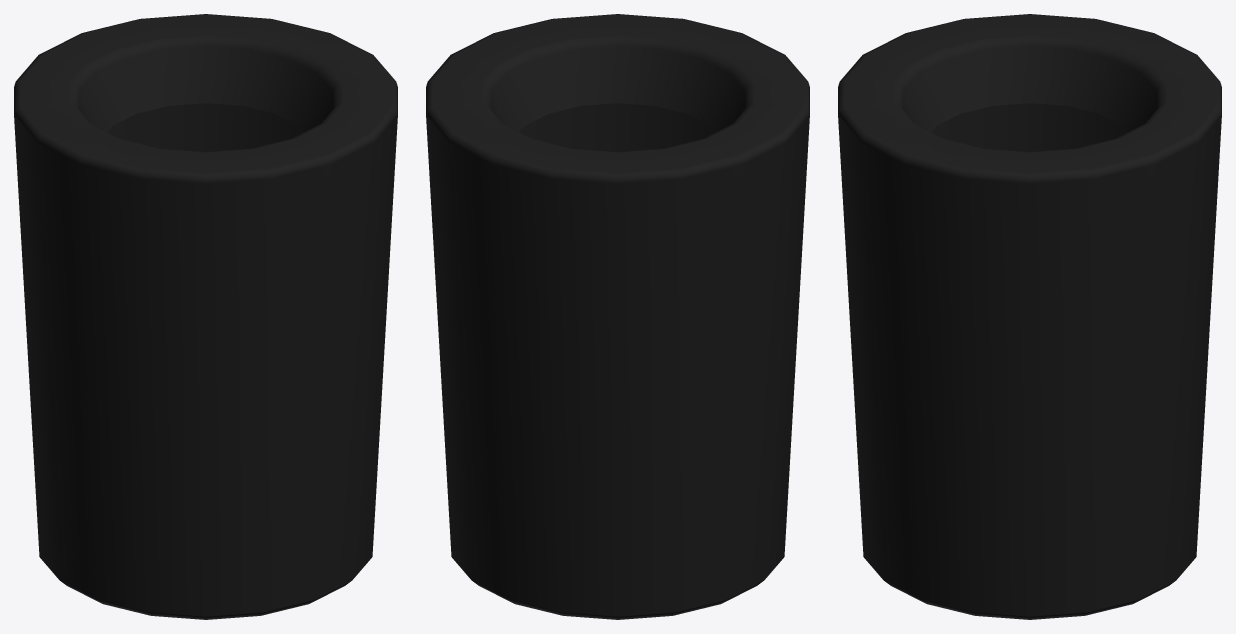
The model's file is Trash.FBX.
3 renders of one model, left to right at view 1: azimuth 30°, elevation 25°; view 2: azimuth 150°, elevation 25°; view 3: azimuth 270°, elevation 25°, orthographic.
Visible parts, largest first — view 1: Trash; view 2: Trash; view 3: Trash.
Boxes of the visible parts, x1,y1,x2,y2 form: Trash: [14, 14, 397, 619]; Trash: [426, 14, 809, 619]; Trash: [838, 14, 1221, 619].
Size of the model in its own units: 46.23 by 60 by 45.53.
